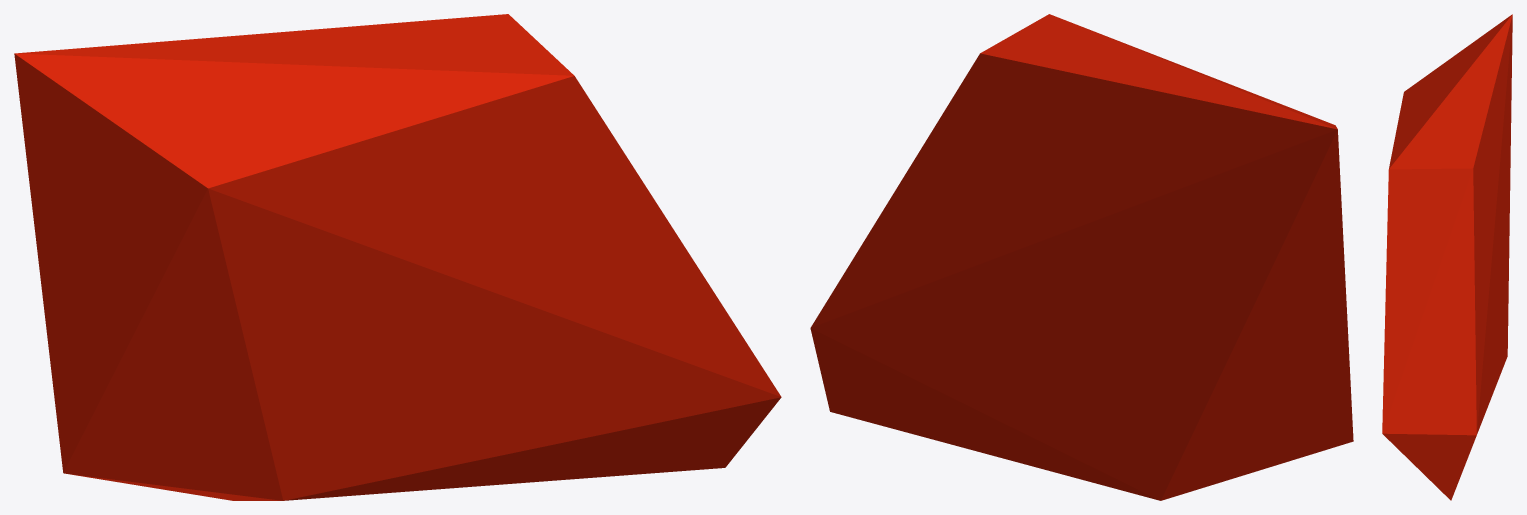
File: torso_convex_piece_051.obj
The picture shows the model from 3 angles, left to right: view 1: azimuth 30°, elevation 25°; view 2: azimuth 150°, elevation 25°; view 3: azimuth 270°, elevation 25°; orthographic projection. The views are drawn at different scales.
Size of the model in its own units: 0.0836 by 0.065 by 0.0253.
